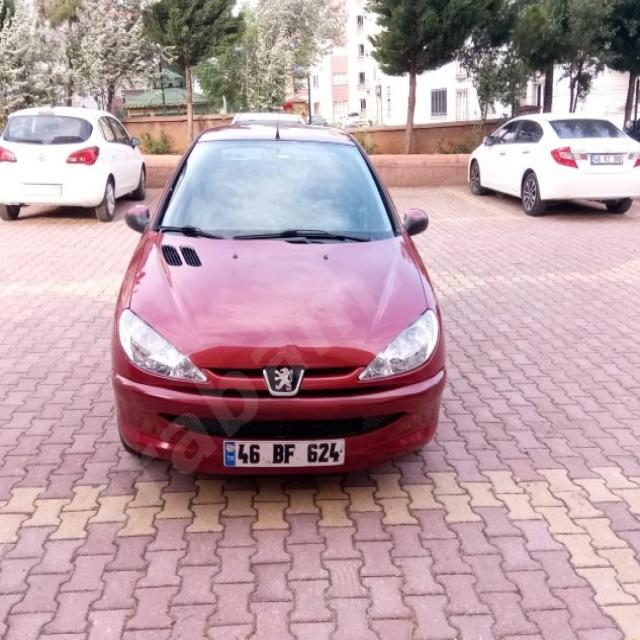license_plate: (224, 439, 346, 466)
